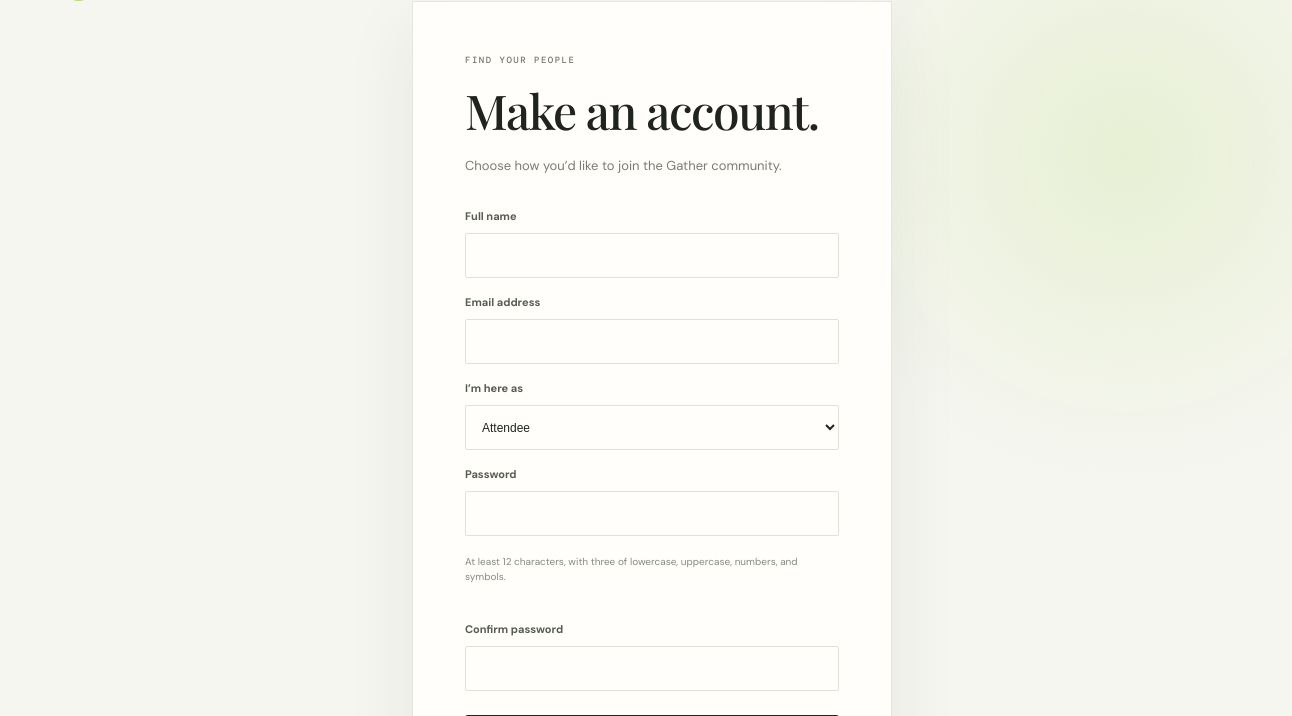
authentication and role routing › submits the selected role to the backend and returns to sign in
In the field labelled "Full name": (652, 256) [465, 233, 839, 278], type "Casey Creator"
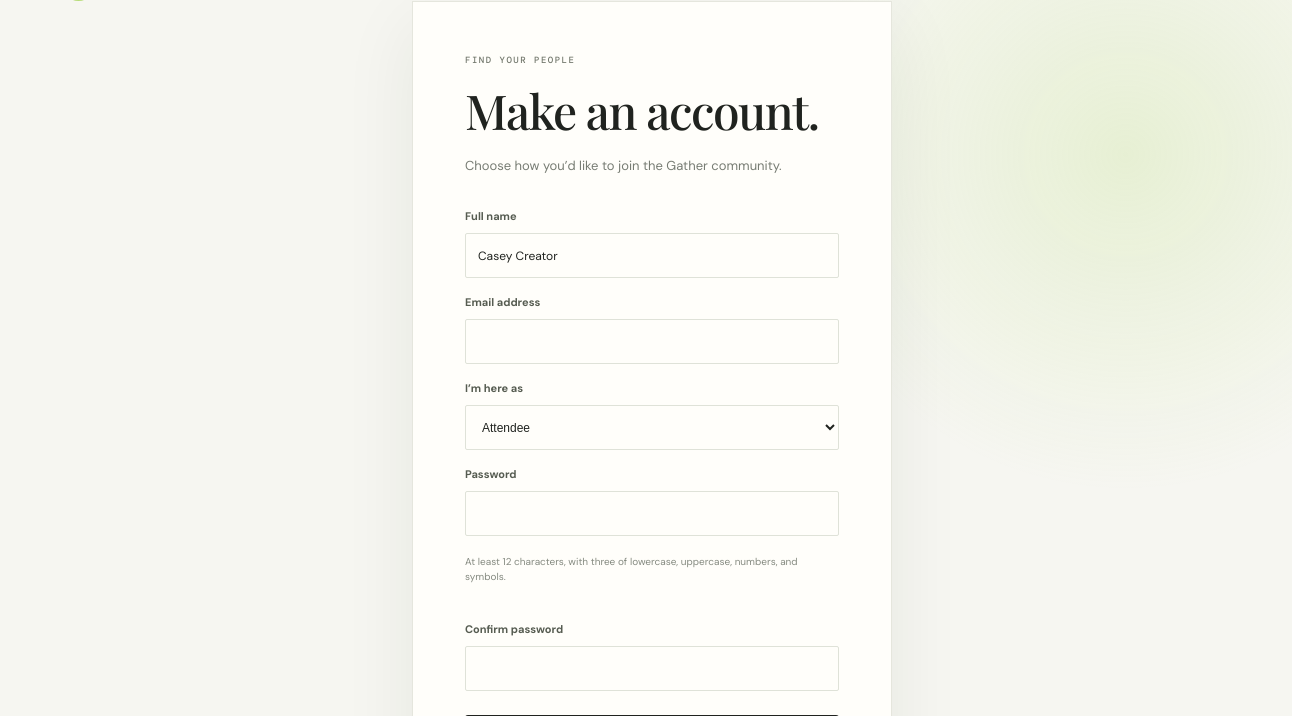
In the field labelled "Email address": (652, 342) [465, 319, 839, 364], type "casey@example.com"
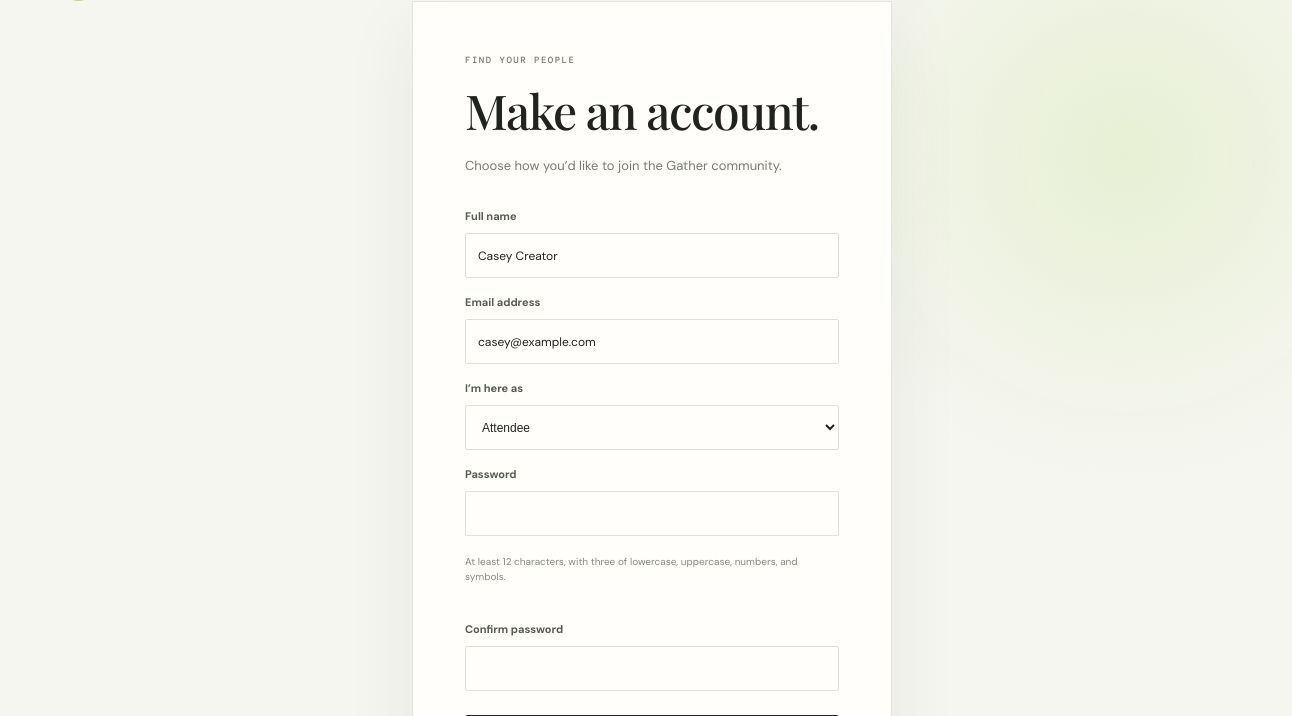
Select "Event creator" in the dropdown labelled "I’m here as": (652, 428) [465, 405, 839, 450]
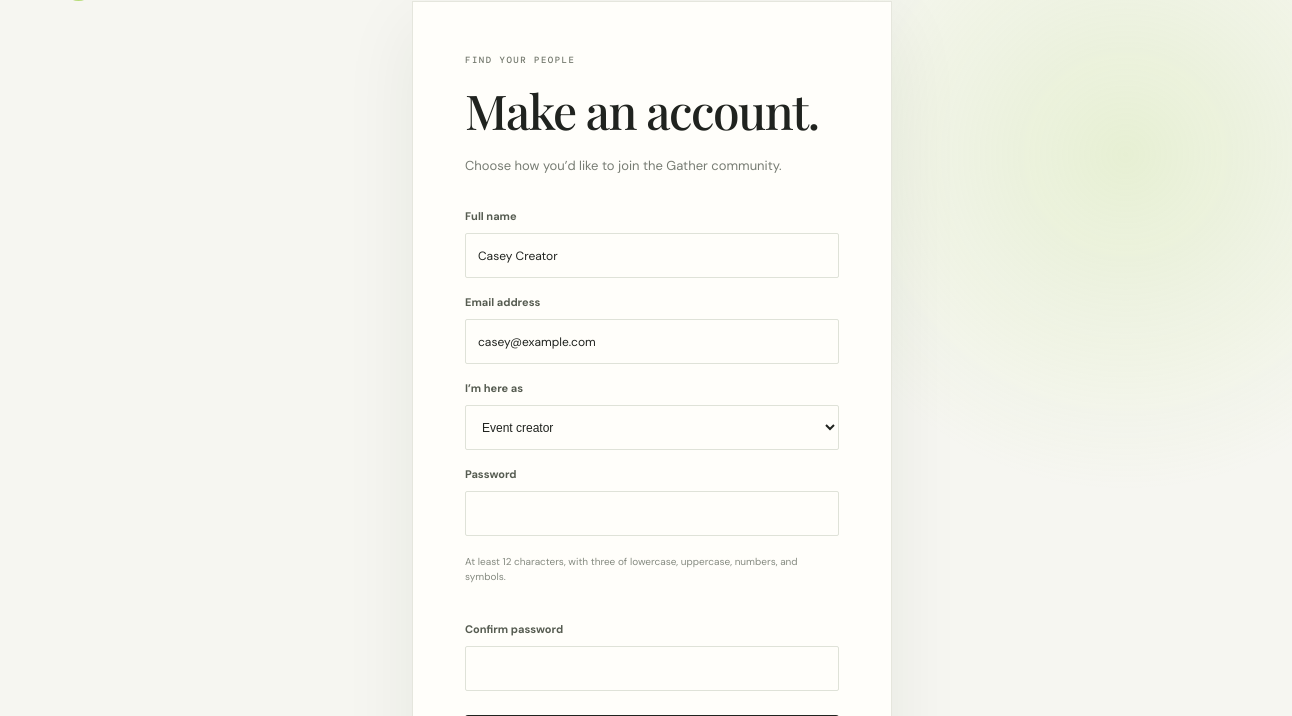
In the password field labelled "Password": (652, 514) [465, 491, 839, 536], type "StrongPassword123!"
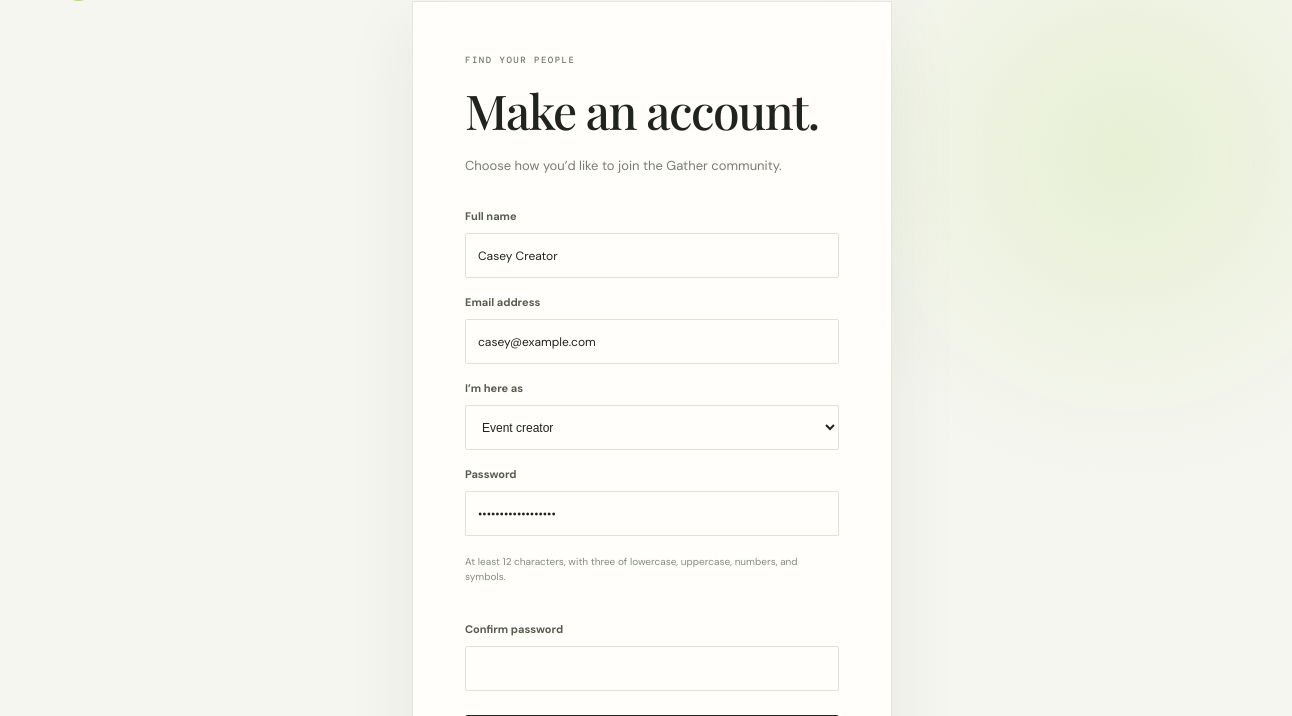
In the password field labelled "Confirm password": (652, 669) [465, 646, 839, 691], type "StrongPassword123!"
(page scrolled)
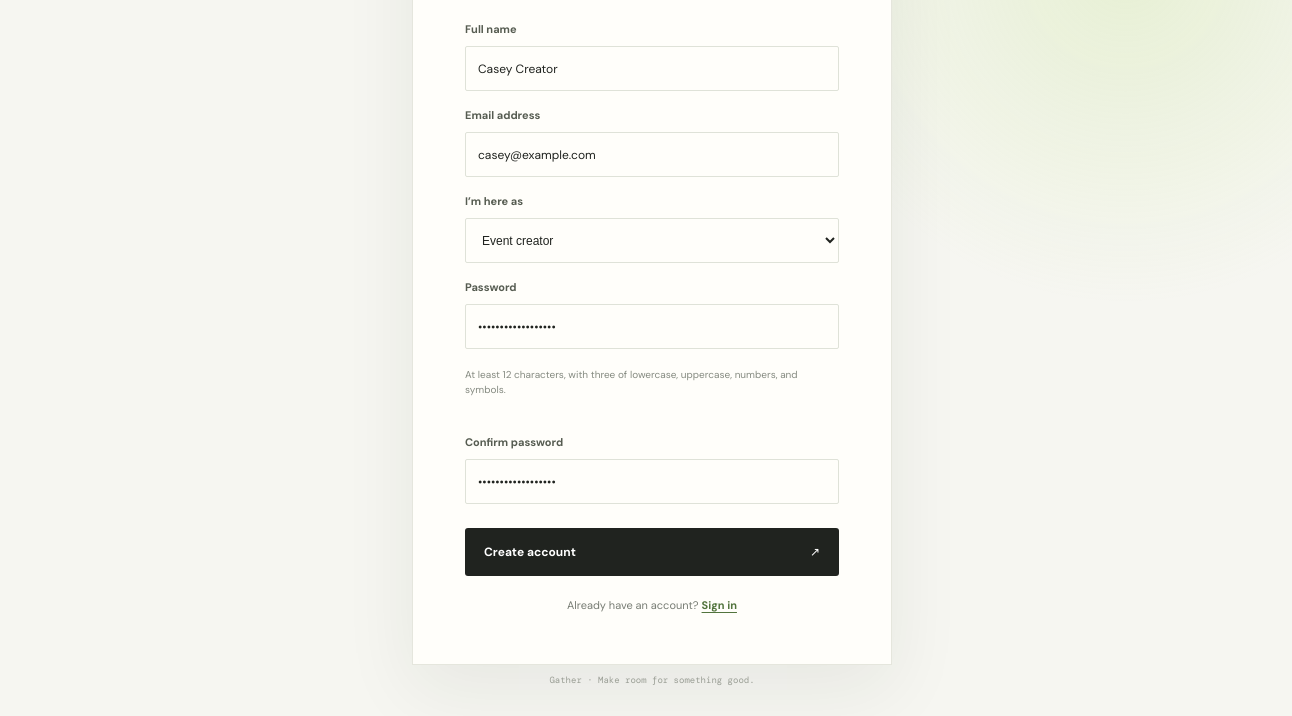
Click the button "Create account ↗": click(530, 552) [465, 528, 839, 576]
(page scrolled)
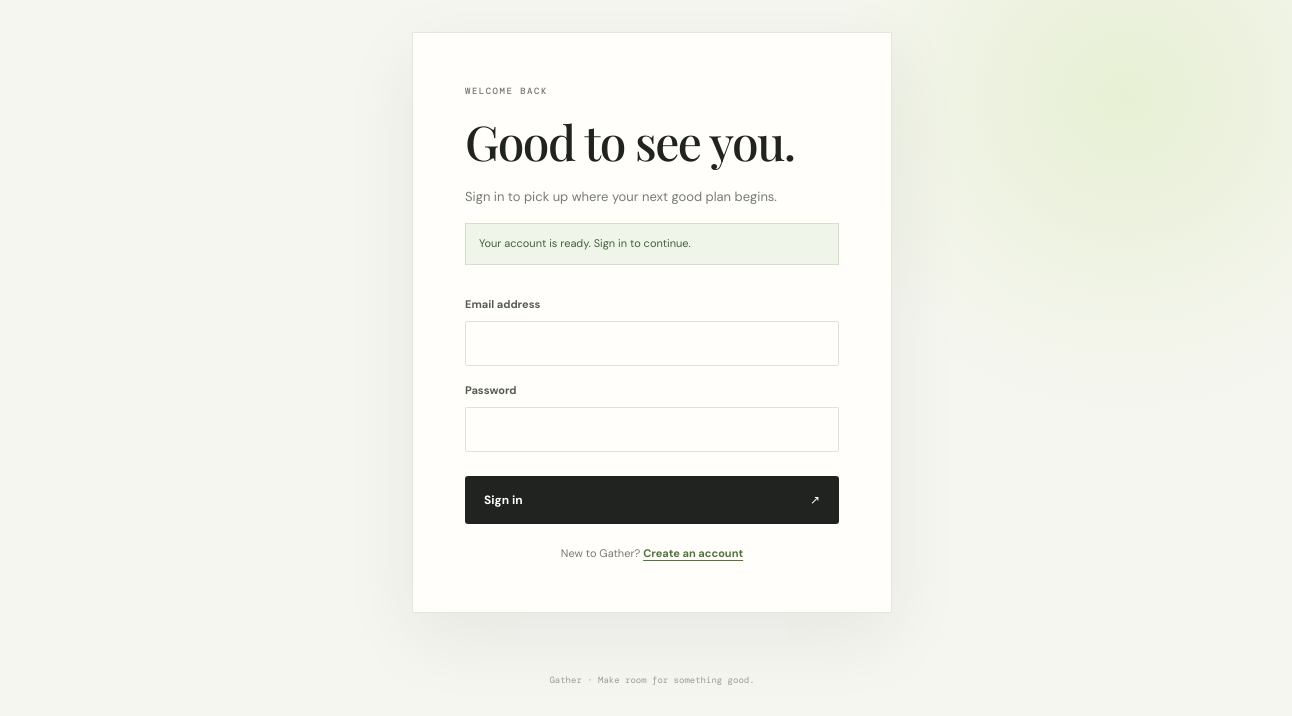
Now the heading "Good to see you." is shown, box [465, 109, 839, 173]
Now the message shows "Your account is ready", box [479, 236, 691, 250]
